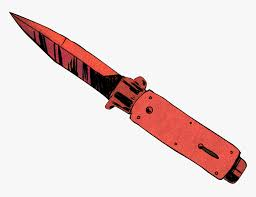knife: (7, 10, 248, 186)
